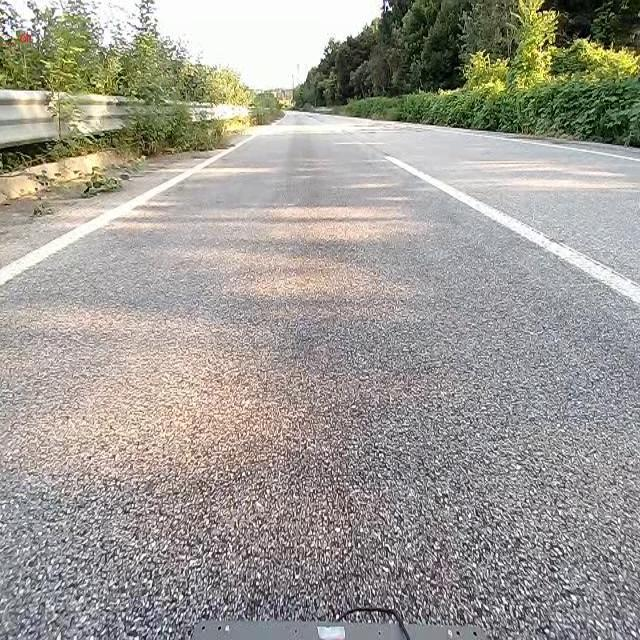Lane: (0, 127, 268, 287), (378, 147, 640, 308), (0, 131, 261, 286), (385, 155, 639, 306)
